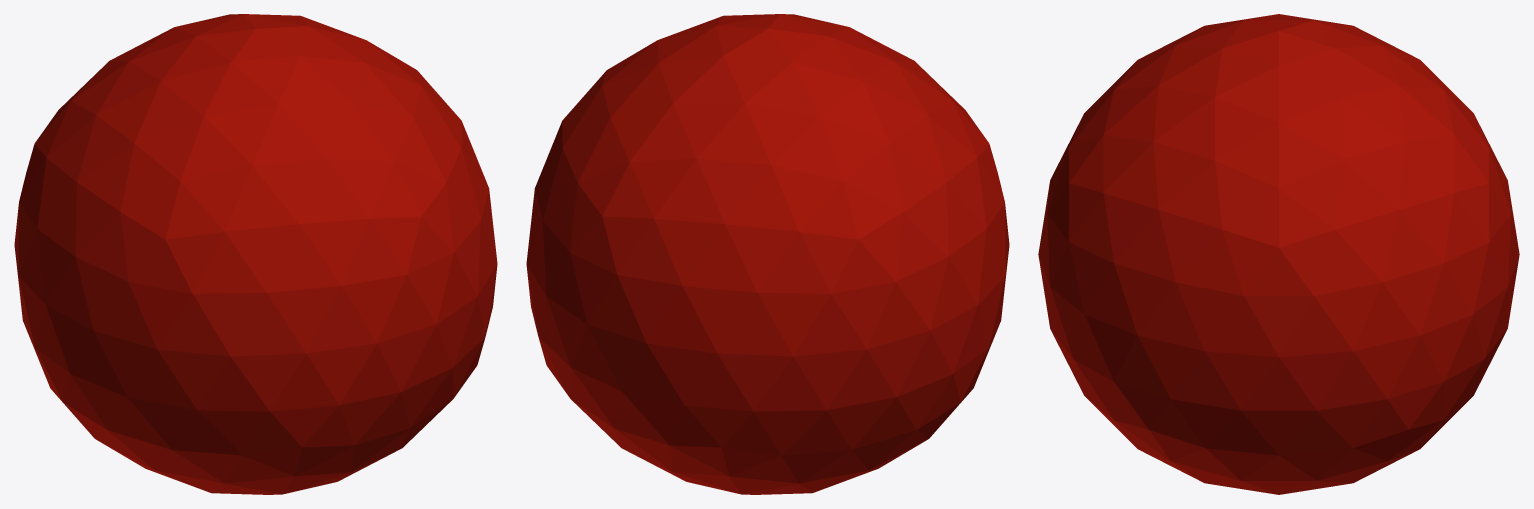
The model's file is lightball.obj.
3 views of the same model, side by side, from view 1: azimuth 30°, elevation 25°; view 2: azimuth 150°, elevation 25°; view 3: azimuth 270°, elevation 25° (orthographic).
Visible parts, largest first — view 1: Icosphere; view 2: Icosphere; view 3: Icosphere.
Boxes of the visible parts, <box> form: Icosphere: <box>14,14,497,494</box>; Icosphere: <box>526,14,1009,494</box>; Icosphere: <box>1038,14,1519,494</box>.
Size of the model in its own units: 0.6746 by 0.6917 by 0.6746.
